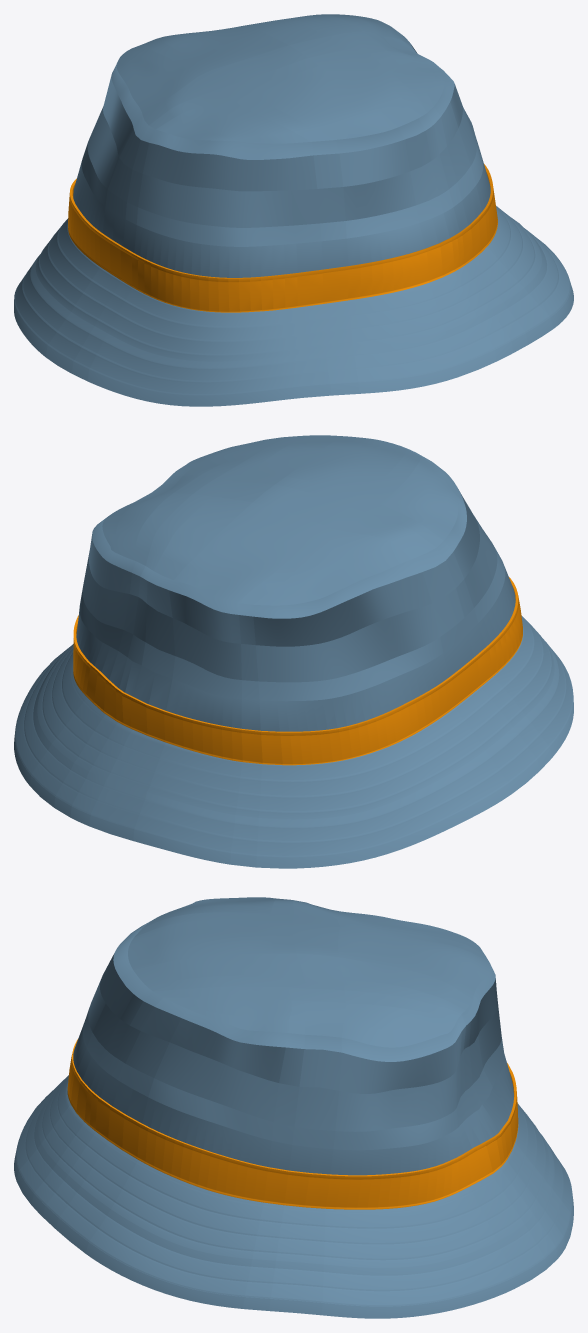
File: FishermanHat_Boy.fbx
3 views of the same model, one above another, from view 1: azimuth 30°, elevation 25°; view 2: azimuth 150°, elevation 25°; view 3: azimuth 270°, elevation 25° (orthographic). The views are drawn at different scales.
Parts seen in each view (by area): view 1: fisherman_hat; view 2: fisherman_hat; view 3: fisherman_hat.
Part boxes in pixels (left/top/right/bottom): fisherman_hat: left=14, top=14, right=573, bottom=406; fisherman_hat: left=14, top=435, right=573, bottom=868; fisherman_hat: left=14, top=897, right=573, bottom=1318.
Bounding box in the file's own units: 64.43 × 34.37 × 64.31.
